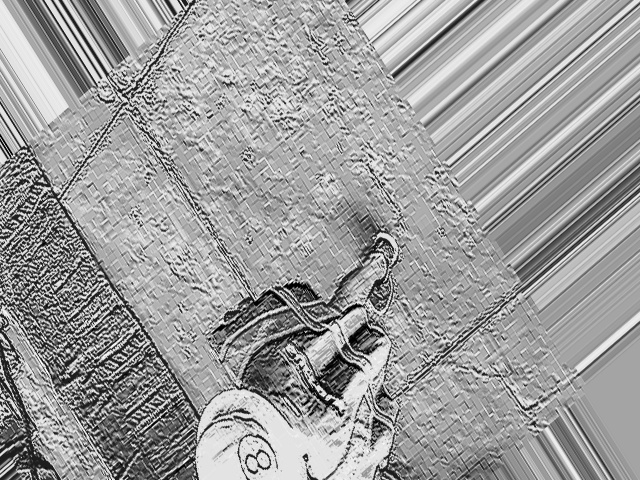eight: (227, 424, 288, 479)
